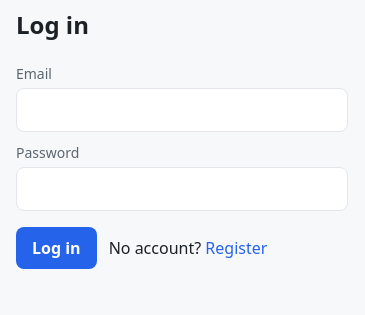
Login › shows the server's error message on bad credentials
Type "a@example.com" into the field labelled "Email" at point(182, 110), box [16,88,348,132]
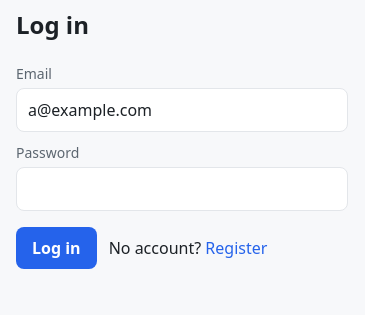
Type "wrongpass1" into the password field labelled "Password" at point(182, 189), box [16,167,348,211]
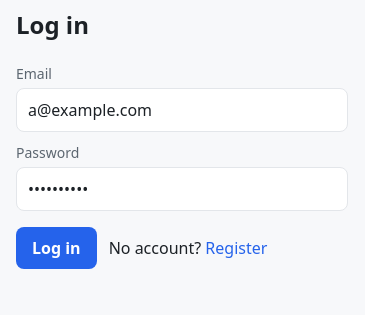
Click the button "Log in" at point(56, 248), box [16,227,97,269]
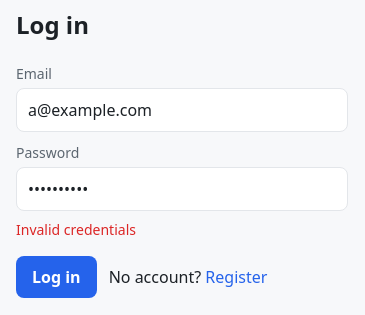
Now the text "Invalid credentials" is shown, box [16,220,136,239]
